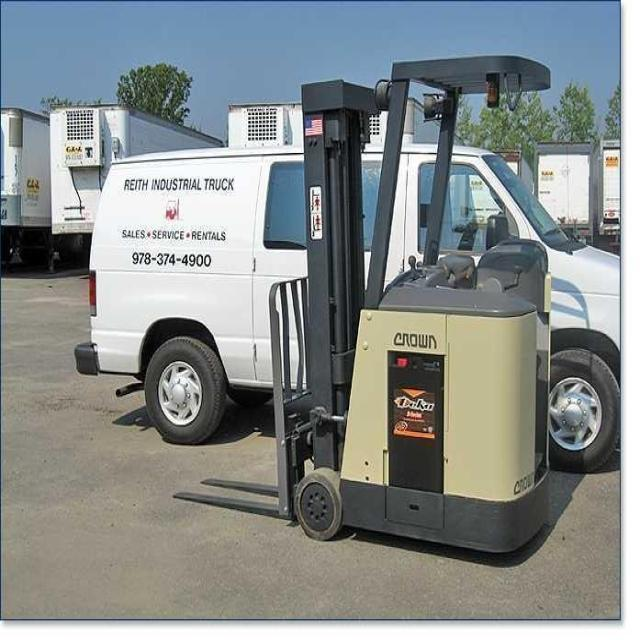forklift: (268, 50, 556, 562)
van: (83, 145, 640, 457)
